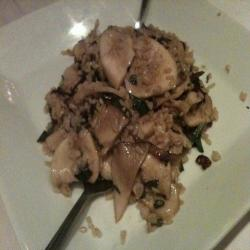rice: (65, 45, 186, 192)
